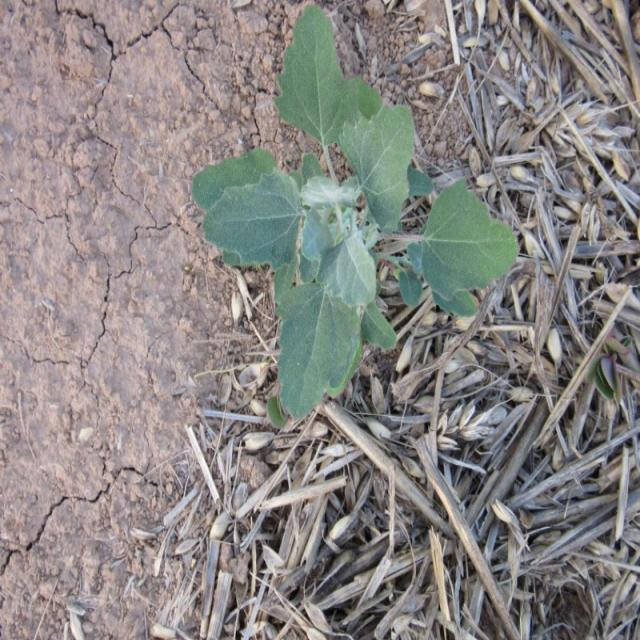ca: (194, 6, 519, 416)
